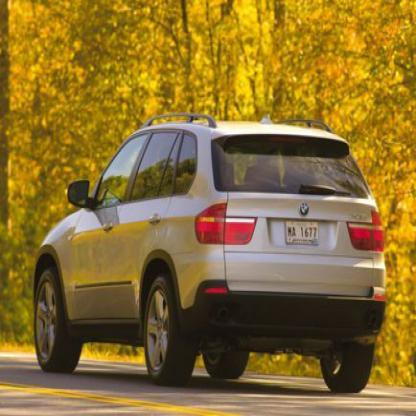Vehicle: (34, 118, 388, 394)
